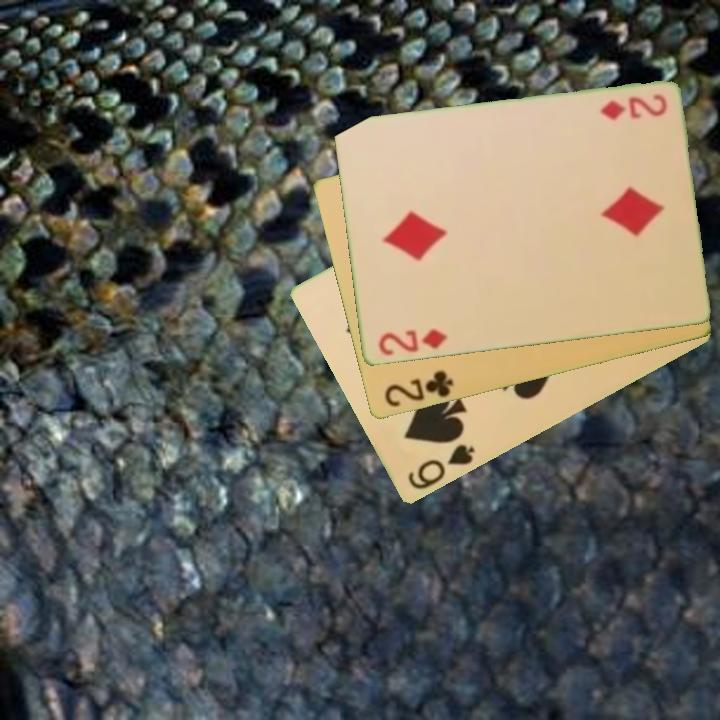2c: (380, 367, 456, 411)
2d: (374, 326, 450, 359), (596, 91, 670, 124)
6s: (404, 441, 478, 493)
